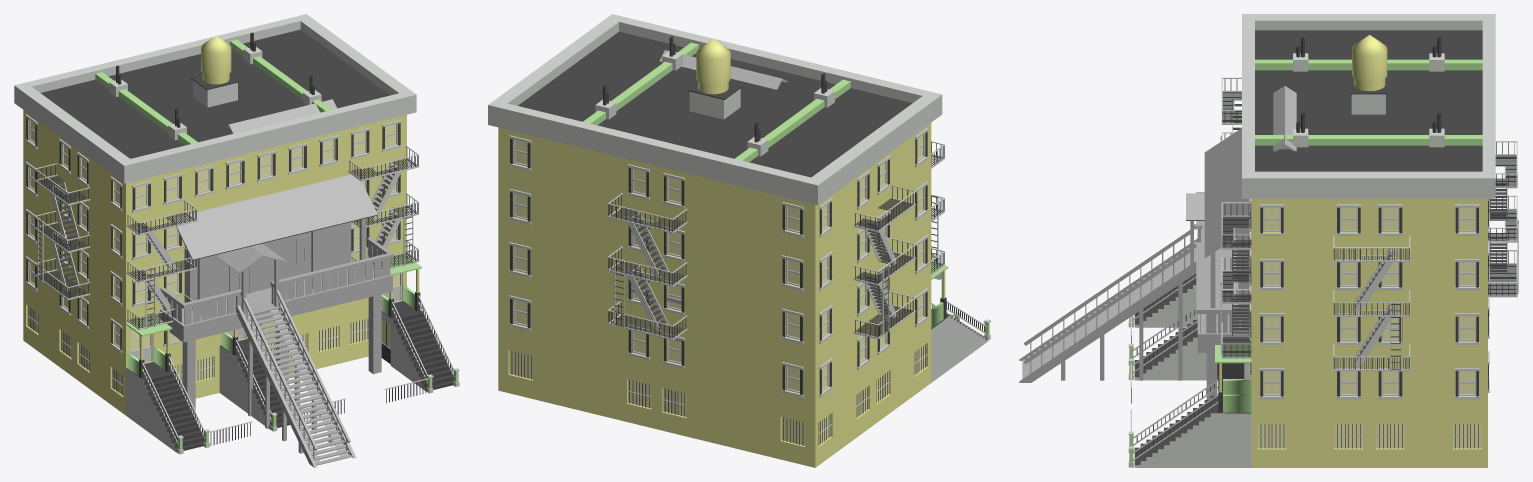
3 renders of one model, left to right at view 1: azimuth 30°, elevation 25°; view 2: azimuth 150°, elevation 25°; view 3: azimuth 270°, elevation 25°, orthographic. The views are drawn at different scales.
Parts seen in each view (by area): view 1: roof.001, polySurface2302, side_front, side_front.001, side_centre, mid, polySurface1706, polySurface1707; view 2: roof.001, back, back.001, side_centre7, side_centre, polySurface1707, polySurface1706, side_front, polySurface2302; view 3: roof.001, side_centre.001, polySurface1706.001, polySurface1707.001, polySurface2302, side_front.001, mid, side_centre7, side_front.
Boxes of the visible parts, x1,y1,x2,y2 form: roof.001: (14,14,416,183); polySurface2302: (160,99,393,467); side_front: (126,160,252,454); side_front.001: (313,115,459,402); side_centre: (34,134,92,390); mid: (219,137,345,431); polySurface1706: (92,161,125,415); polySurface1707: (23,110,56,364); roof.001: (488,14,942,205); back: (692,175,815,467); back.001: (498,127,621,420); side_centre7: (607,157,691,437); side_centre: (853,150,915,439); polySurface1707: (815,180,852,467); polySurface1706: (893,123,931,410); side_front: (931,141,990,382); polySurface2302: (631,50,941,341); roof.001: (1242,14,1495,198); side_centre.001: (1328,198,1411,467); polySurface1706.001: (1251,198,1327,467); polySurface1707.001: (1411,198,1487,467); polySurface2302: (1019,86,1296,399); side_front.001: (1128,198,1251,467); mid: (1128,307,1251,403); side_centre7: (1488,141,1518,325); side_front: (1128,77,1241,343).
Size of the model in its own units: 15.71 by 14.13 by 18.03.
Materials: 2 (1 with a texture image).
